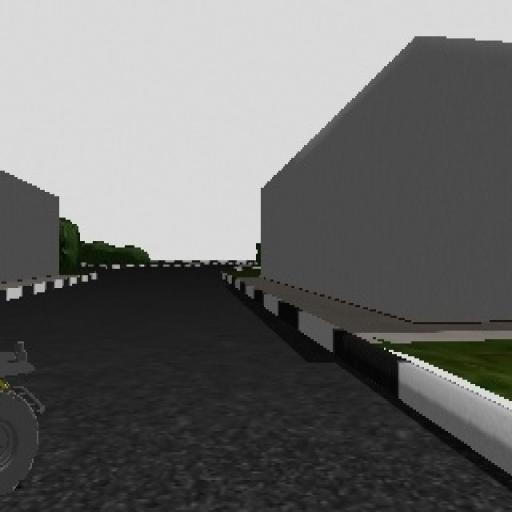huskya200: (0, 337, 56, 512)
